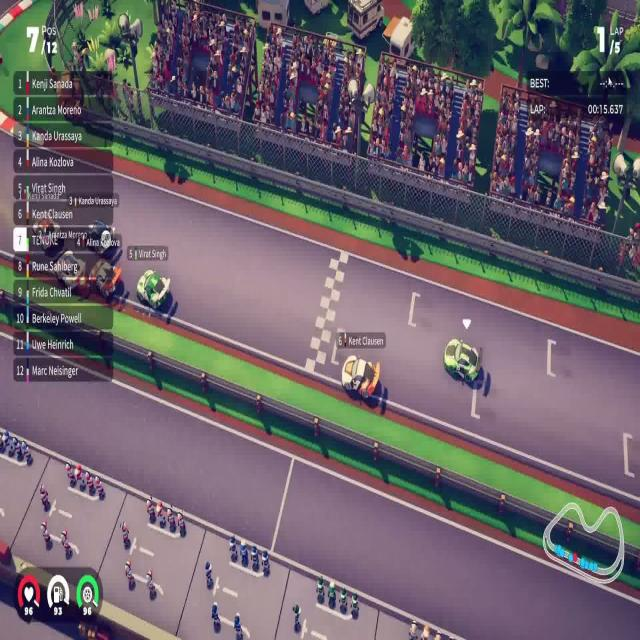car: (340, 353, 380, 402), (442, 336, 480, 384), (136, 268, 170, 310)
